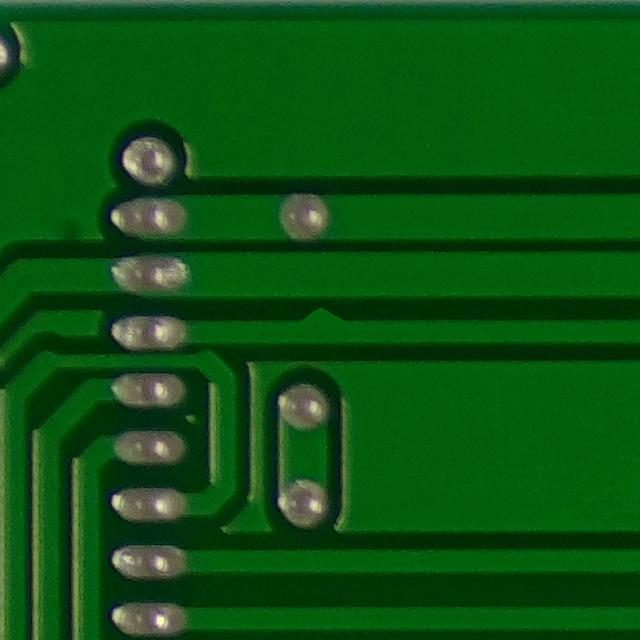spur: (272, 295, 368, 345)
